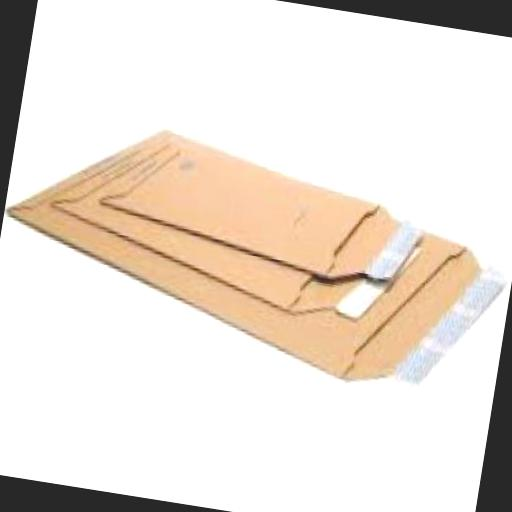cardboard: (0, 104, 491, 395)
